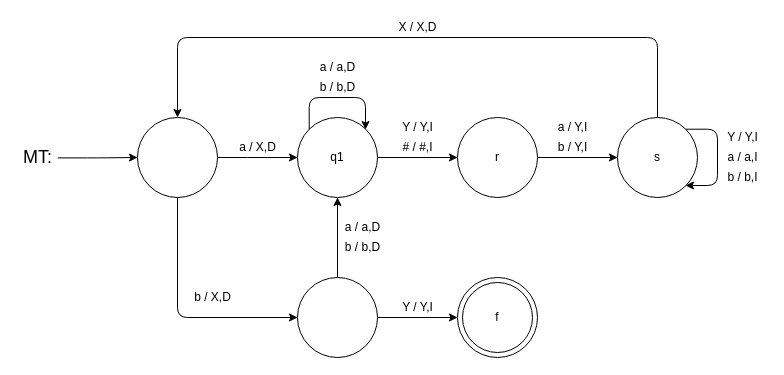
The diagram is 784 pixels wide and 375 high, and some of its shapes have lost their labels. Each missing label, with the centre of its shape:
q2: the point at 337,317
qo: the point at 177,157
